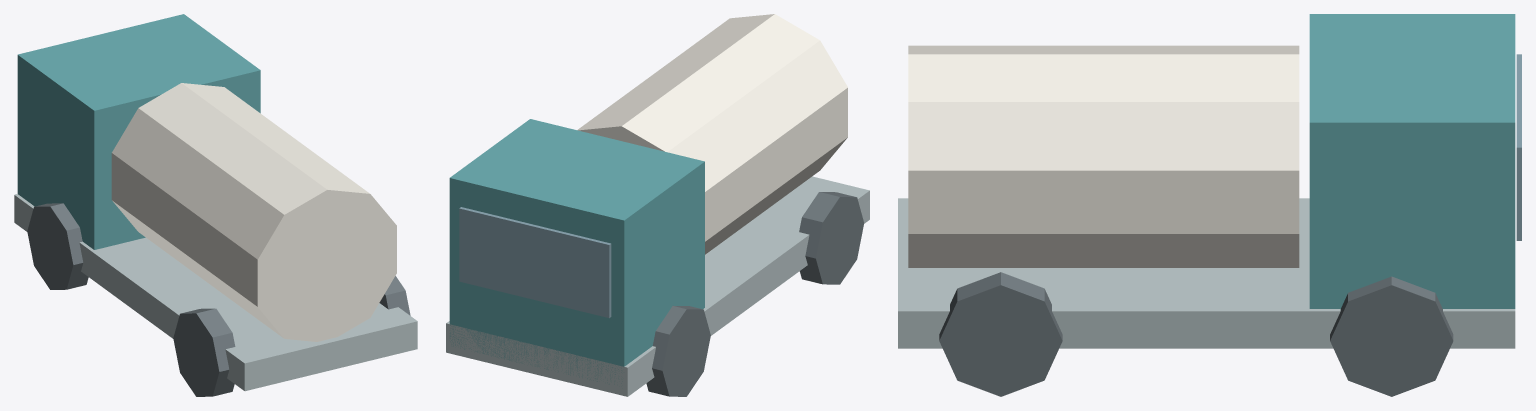
Rendered from fuel_truck.glb.
3 renders of one model, left to right at view 1: azimuth 30°, elevation 25°; view 2: azimuth 150°, elevation 25°; view 3: azimuth 270°, elevation 25°, orthographic. The views are drawn at different scales.
Visible parts, largest first — view 1: fuel_truck__tanker, fuel_truck__cab, fuel_truck__chassis, fuel_truck__wheel, fuel_truck__wheel.001, fuel_truck__wheel.002; view 2: fuel_truck__cab, fuel_truck__tanker, fuel_truck__chassis, fuel_truck__windscreen, fuel_truck__wheel, fuel_truck__wheel.001; view 3: fuel_truck__tanker, fuel_truck__cab, fuel_truck__chassis, fuel_truck__wheel.002, fuel_truck__wheel.003, fuel_truck__windscreen.
Part boxes in pixels (x1,y1,x2,y2): fuel_truck__tanker: [111, 83, 396, 341]; fuel_truck__cab: [17, 14, 260, 249]; fuel_truck__chassis: [14, 194, 417, 391]; fuel_truck__wheel: [173, 308, 235, 396]; fuel_truck__wheel.001: [27, 203, 88, 289]; fuel_truck__wheel.002: [379, 276, 410, 315]; fuel_truck__cab: [449, 119, 704, 384]; fuel_truck__tanker: [577, 14, 847, 254]; fuel_truck__chassis: [446, 176, 869, 396]; fuel_truck__windscreen: [459, 207, 611, 318]; fuel_truck__wheel: [799, 192, 864, 284]; fuel_truck__wheel.001: [646, 305, 710, 396]; fuel_truck__tanker: [908, 45, 1299, 267]; fuel_truck__cab: [1309, 14, 1515, 308]; fuel_truck__chassis: [898, 198, 1515, 348]; fuel_truck__wheel.002: [939, 272, 1062, 396]; fuel_truck__wheel.003: [1330, 276, 1453, 396]; fuel_truck__windscreen: [1516, 54, 1521, 240].
Size of the model in its own units: 2.9 by 3 by 6.06.
